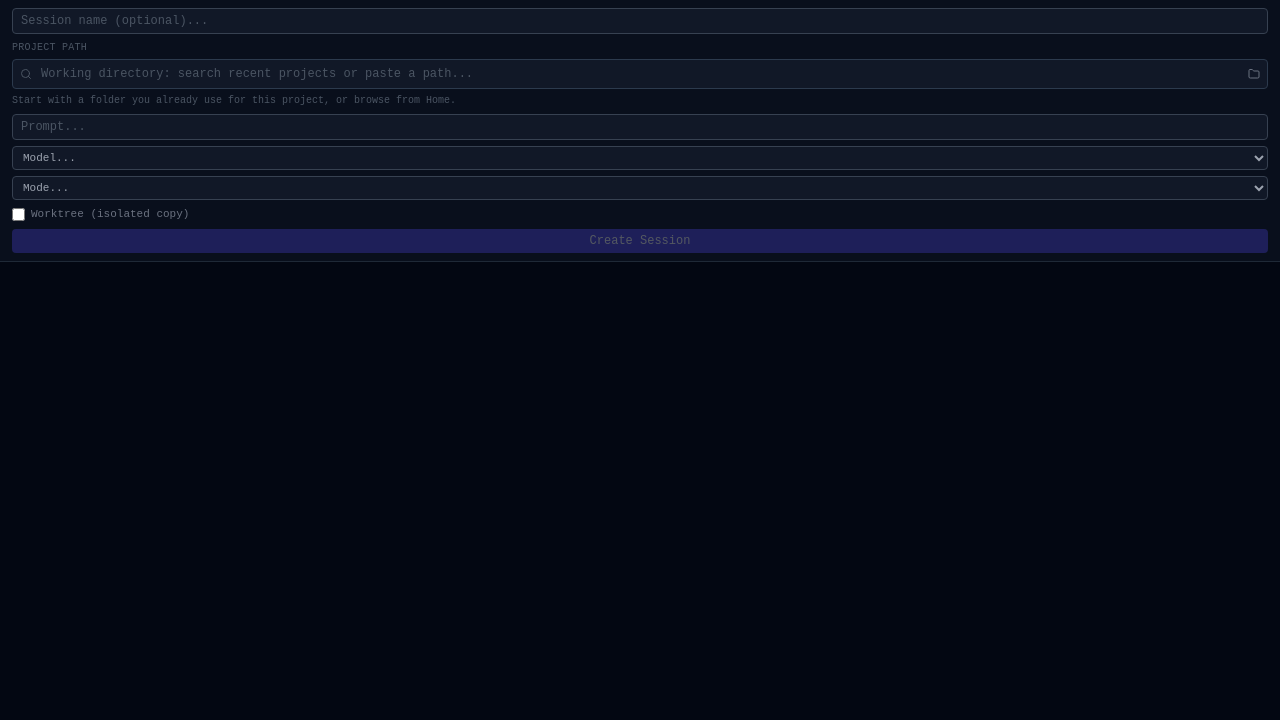
it: NewSessionForm — folder picker integration › falls back to the folder picker modal when native browsing is unavailable
Click the button named "browse for folder". click: coordinates (1254, 74)
box: [1244,64,1264,84]
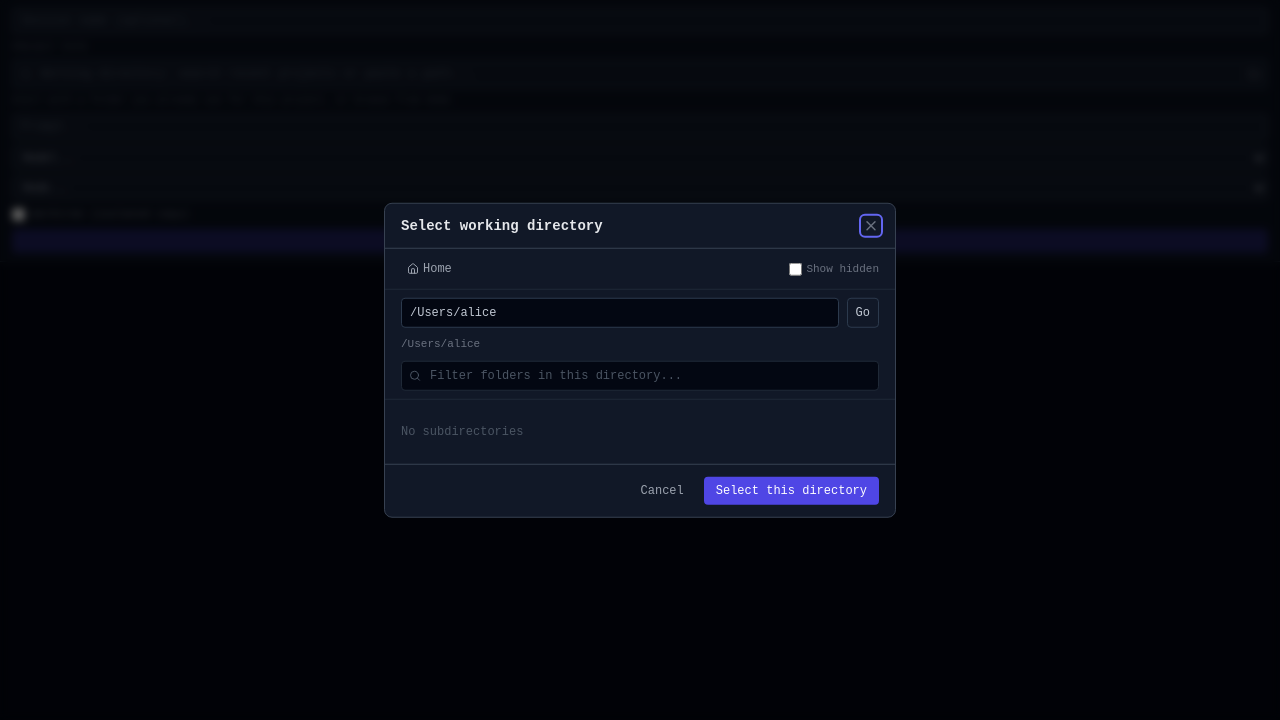
Check: the button "Select this directory" is shown, box [704,476,879,504]
